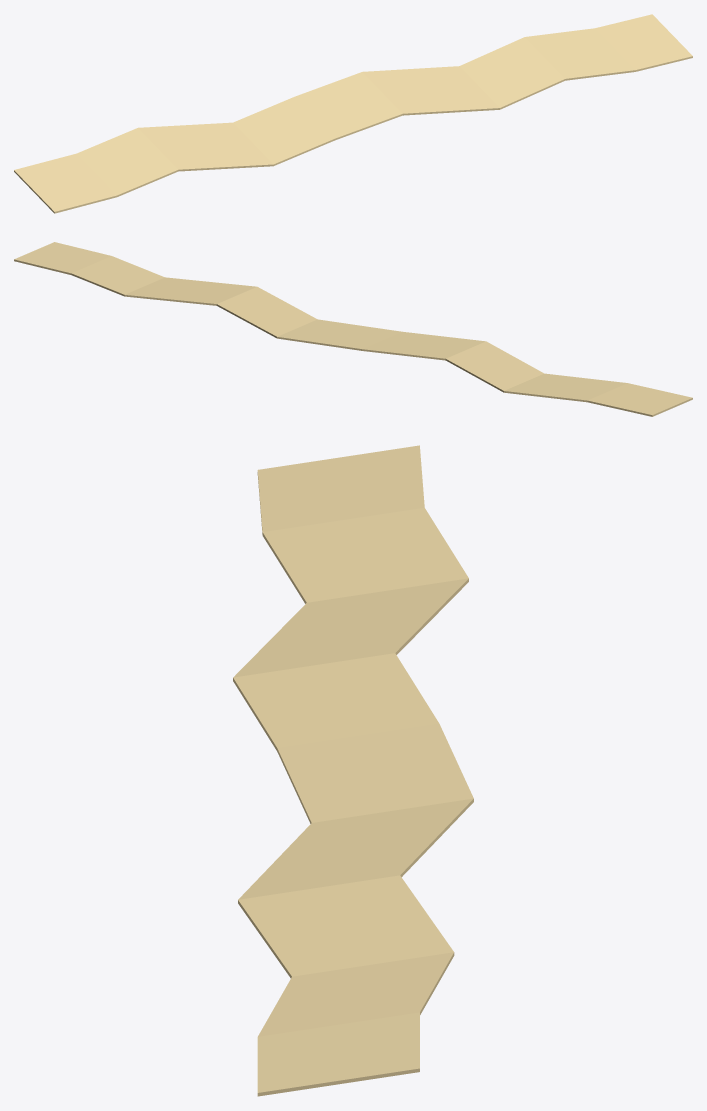
3 views of the same model, one above another, from view 1: azimuth 30°, elevation 25°; view 2: azimuth 150°, elevation 25°; view 3: azimuth 270°, elevation 25° (orthographic). The views are drawn at different scales.
Parts seen in each view (by area): view 1: 沙滩缓坡.001; view 2: 沙滩缓坡.001; view 3: 沙滩缓坡.001.
Part boxes in pixels (bbox=[...]): 沙滩缓坡.001: bbox=[14, 14, 692, 213]; 沙滩缓坡.001: bbox=[14, 242, 692, 416]; 沙滩缓坡.001: bbox=[233, 445, 473, 1096].
Bounding box in the file's own units: 3 × 0.063 × 0.49.
